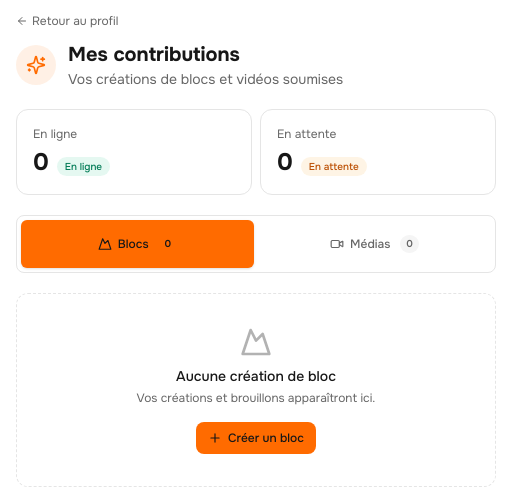
ContributionsPage › shows the empty state on the media tab when no videos
Click the tab with test id "tab-media": click(374, 244) [258,220,491,268]
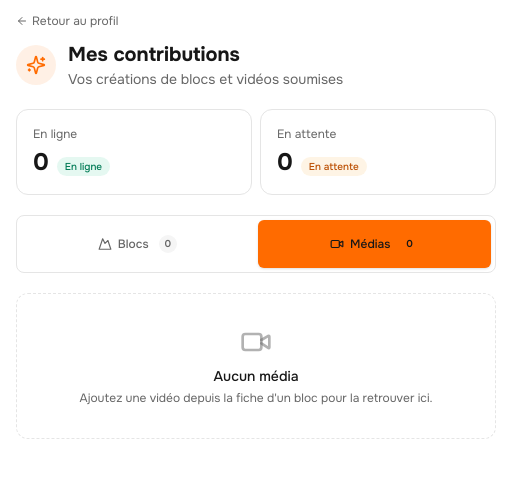
Expected: the element with test id "media-empty" is shown, [16,293,496,439]
Expected: the text "Aucun média" is shown, [214,367,298,385]
